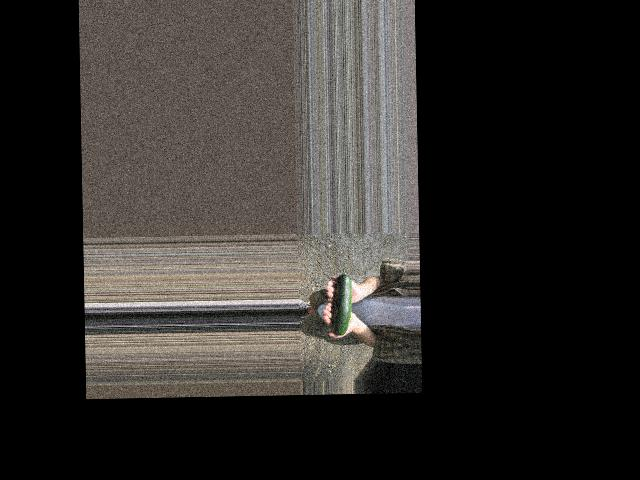cucumber: (331, 266, 352, 334)
